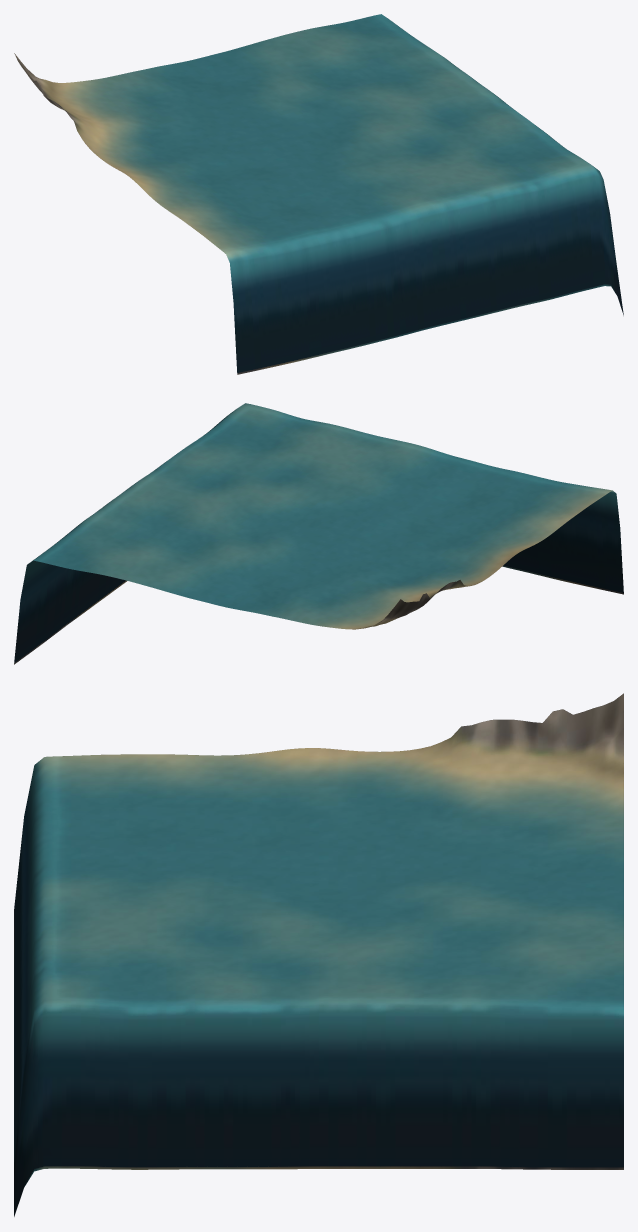
The picture shows the model from 3 angles, top to bottom: view 1: azimuth 30°, elevation 25°; view 2: azimuth 150°, elevation 25°; view 3: azimuth 270°, elevation 25°; orthographic projection. The views are drawn at different scales.
Visible parts, largest first — view 1: t192_000; view 2: t192_000; view 3: t192_000.
Boxes of the visible parts, <box> form: t192_000: <box>14,14,623,374</box>; t192_000: <box>14,403,623,664</box>; t192_000: <box>14,693,623,1216</box>.
Size of the model in its own units: 64 by 30.89 by 64.
Materials: 1 (1 with a texture image).
